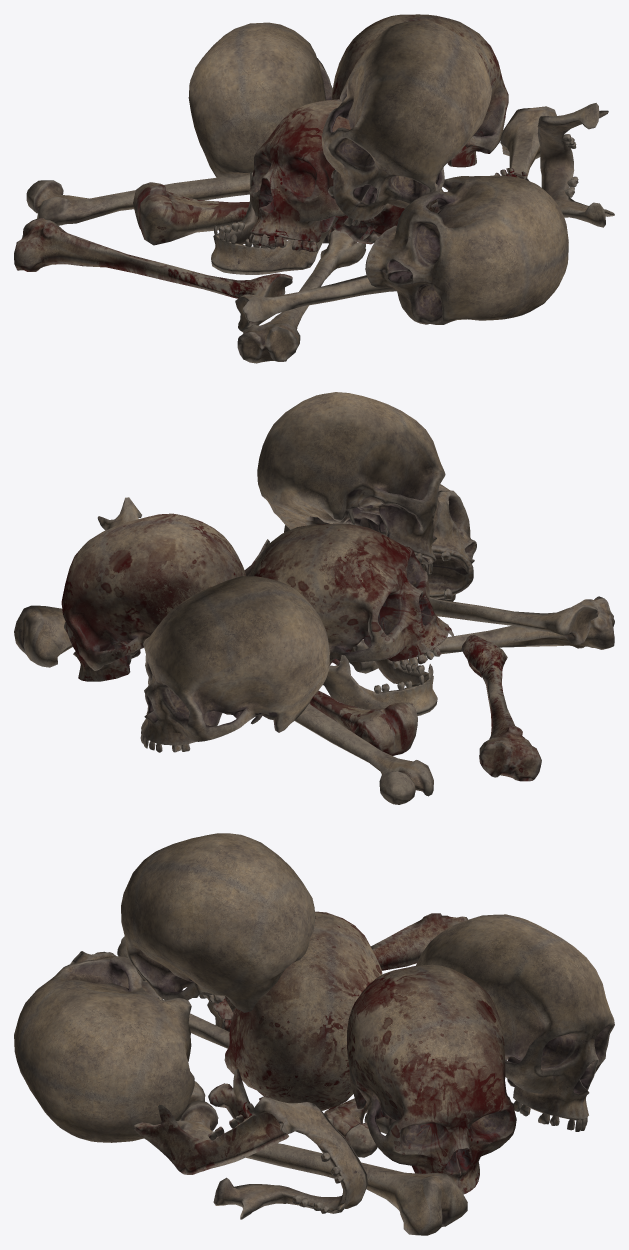
File: sm_HumanRemains_01_01.fbx
3 renders of one model, top to bottom at view 1: azimuth 30°, elevation 25°; view 2: azimuth 150°, elevation 25°; view 3: azimuth 270°, elevation 25°, orthographic. The views are drawn at different scales.
Parts seen in each view (by area): view 1: sm_HumanRemains_01_01_LOD0; view 2: sm_HumanRemains_01_01_LOD0; view 3: sm_HumanRemains_01_01_LOD0.
Part boxes in pixels (x1=…): sm_HumanRemains_01_01_LOD0: x1=14, y1=14, x2=614, y2=363; sm_HumanRemains_01_01_LOD0: x1=14, y1=392, x2=614, y2=804; sm_HumanRemains_01_01_LOD0: x1=14, y1=833, x2=614, y2=1235.
Bounding box in the file's own units: 133 × 115 × 58.16.
